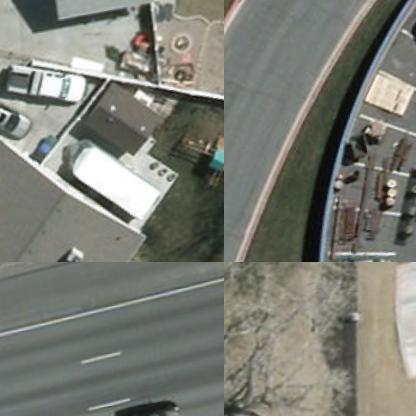camping car: (59, 126, 162, 230)
car: (0, 83, 31, 152), (317, 249, 392, 261), (121, 406, 184, 415)
pickup: (0, 45, 94, 116)
